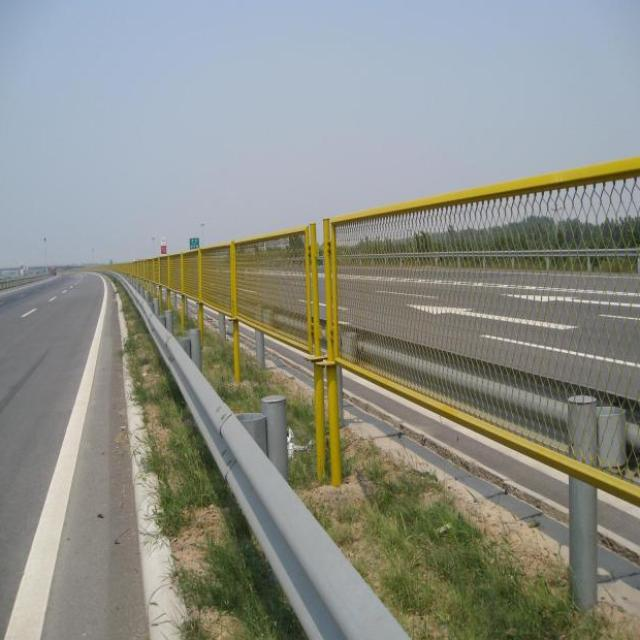Guard rail: (106, 271, 412, 640)
